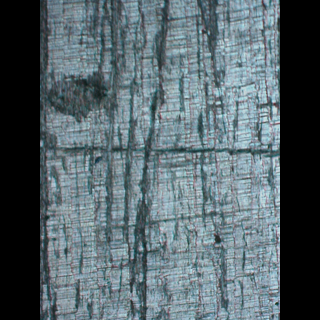d: (40, 69, 111, 128)
